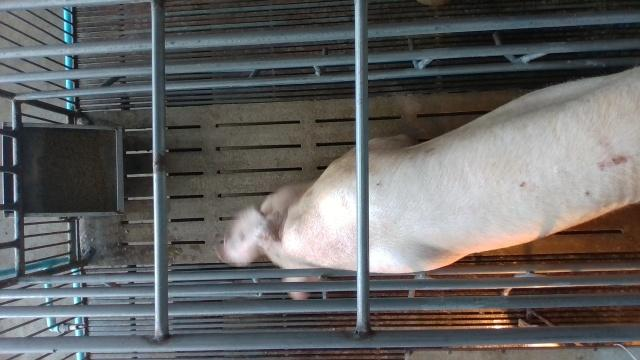sow-stand: (216, 67, 640, 301)
